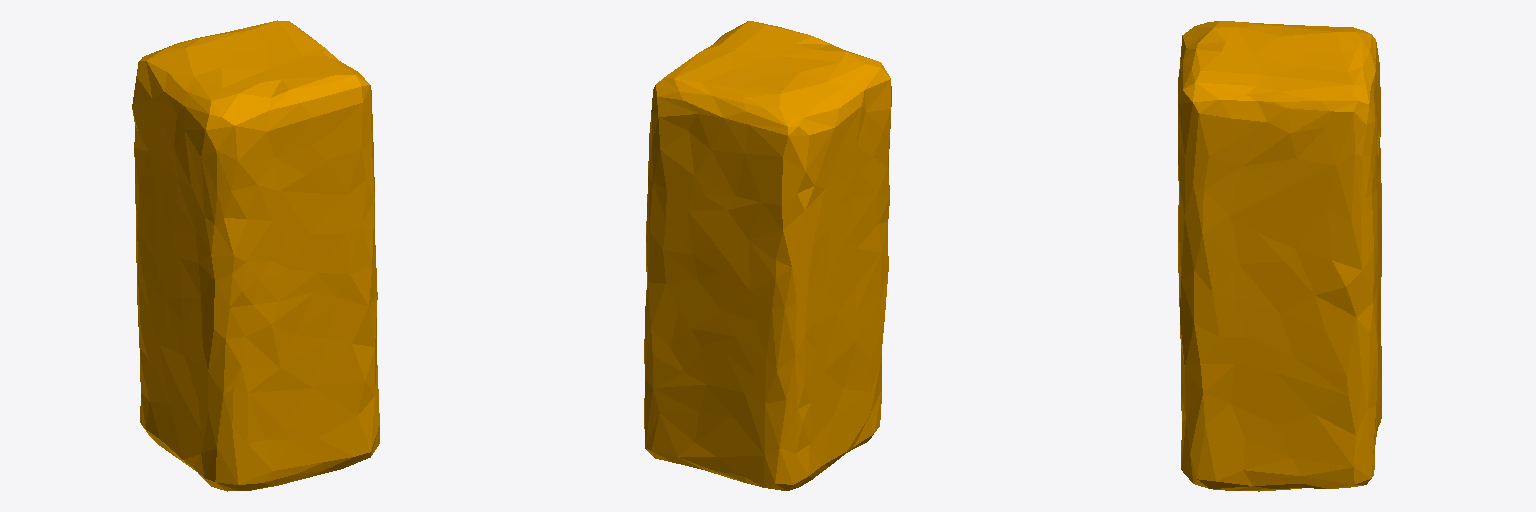
URDF robot description (wooden_block):
<?xml version="1.0"?>
<robot name="wooden_block">
  <link name="base_link">
    <contact>
      <lateral_friction value="1.0"/>
      <rolling_friction value="0.0"/>
      <contact_cfm value="0.0"/>
      <contact_erp value="1.0"/>
    </contact>
    <inertial>
      <mass value="1.08892168162"/>
      <inertia ixx="1" ixy="0" ixz="0" iyy="1" iyz="0" izz="1"/>
    </inertial>
    <visual>
      <geometry>
        <mesh filename="wooden_block_visual.obj"/>
      </geometry>
    </visual>
    <collision>
      <geometry>
        <mesh filename="wooden_block_collision.obj"/>
      </geometry>
    </collision>
  </link>
</robot>

--- What the picture shows (computed from the rendered views, not written in the file) ---
The picture shows the robot from 3 angles, left to right: view 1: azimuth 30°, elevation 25°; view 2: azimuth 150°, elevation 25°; view 3: azimuth 270°, elevation 25°; orthographic projection.
Robot: wooden_block — 1 links, 0 joints (none); root link base_link; default pose: all joints at 0.
Links seen in each view (by area): view 1: base_link; view 2: base_link; view 3: base_link.
Boxes of the visible links, left/top/right/bottom form: base_link: left=132, top=20, right=379, bottom=491; base_link: left=644, top=21, right=891, bottom=490; base_link: left=1178, top=21, right=1381, bottom=491.
Size in the robot's own frame: 0.0963 by 0.0935 by 0.2064 metres.
1 mesh visuals loaded from 1 distinct referenced files (1 OBJ).